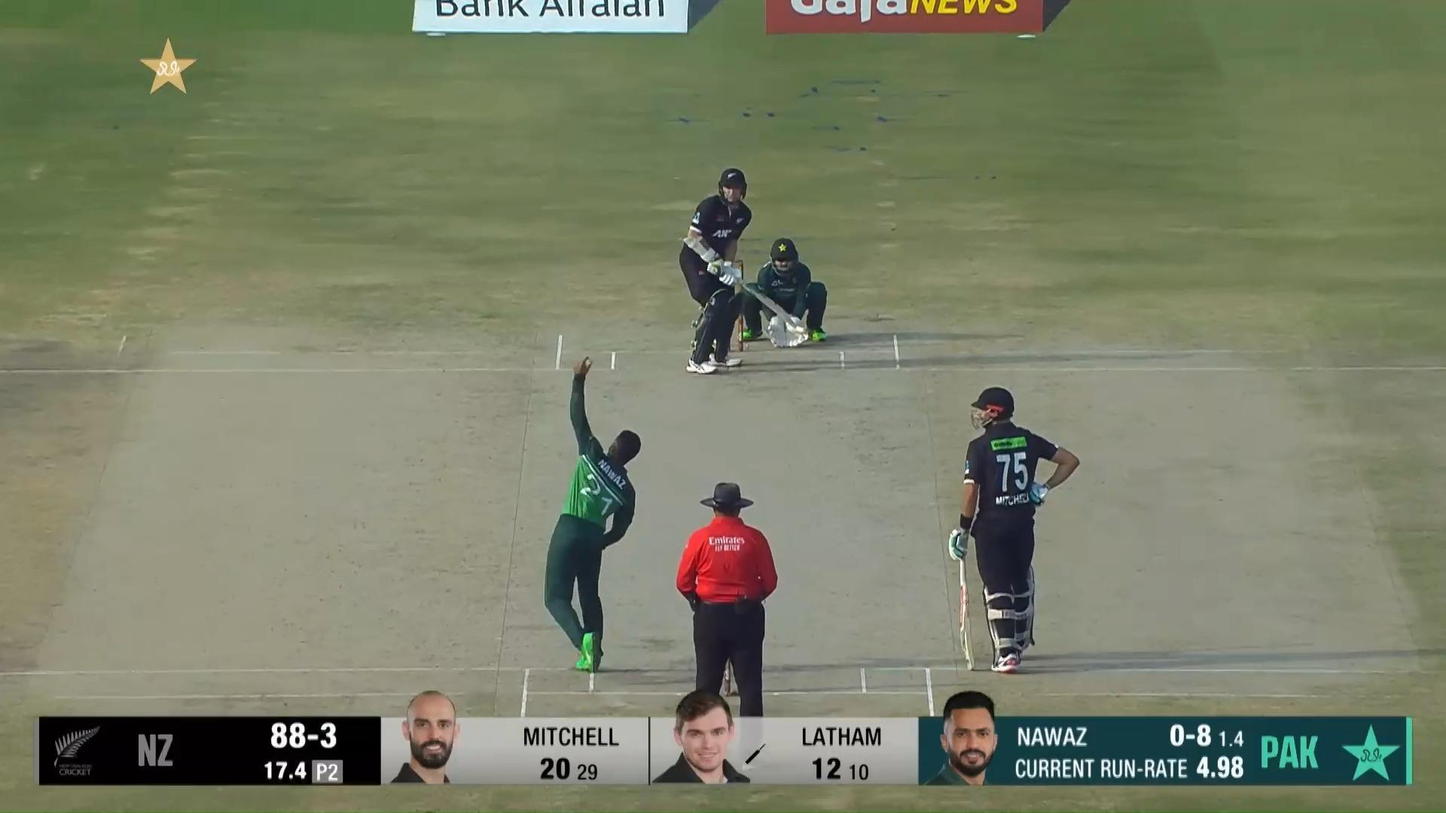BM 1: (677, 167, 799, 376)
BO: (539, 361, 644, 677)
